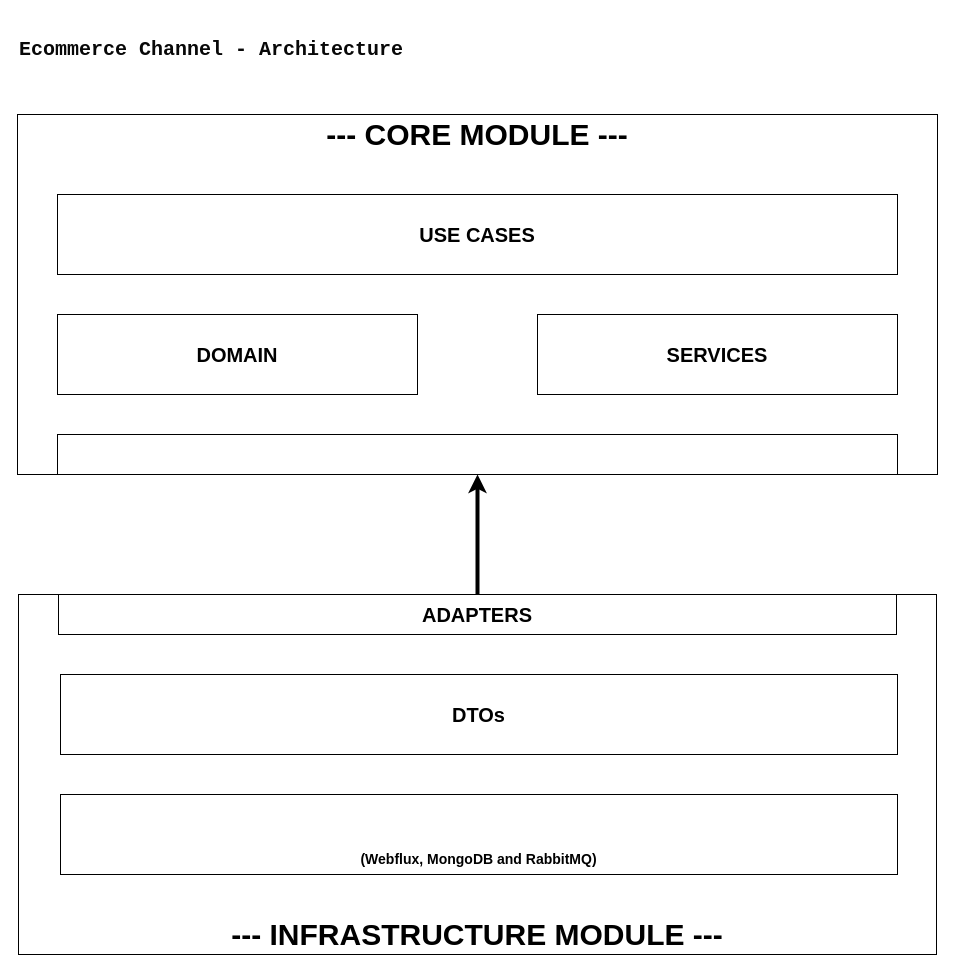
Some shapes in this 955 by 972 pixel diagram are drawn without their labels. Each missing label, with the box of its shape:
FRAMEWORKS: (60, 794, 898, 874)
PORTS: (56, 434, 898, 474)
